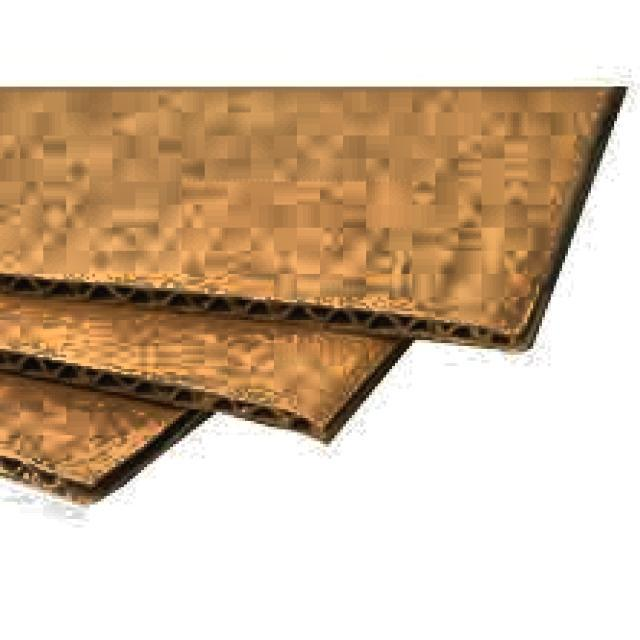cardboard: (0, 80, 632, 351)
